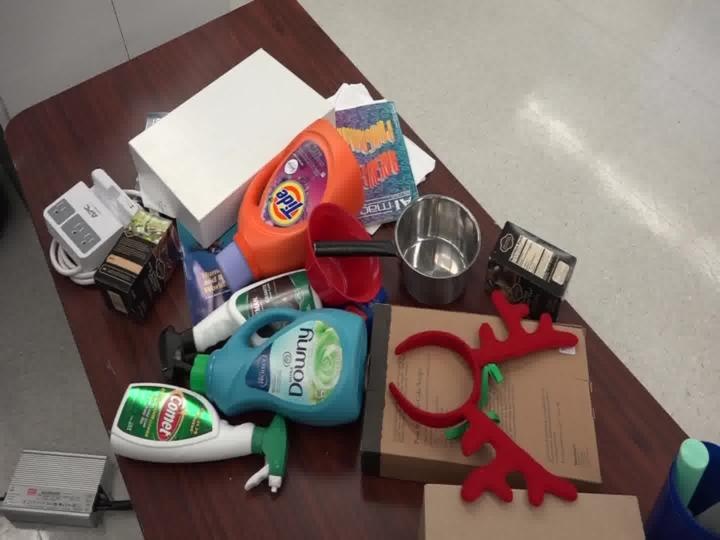tide: (202, 111, 377, 287)
